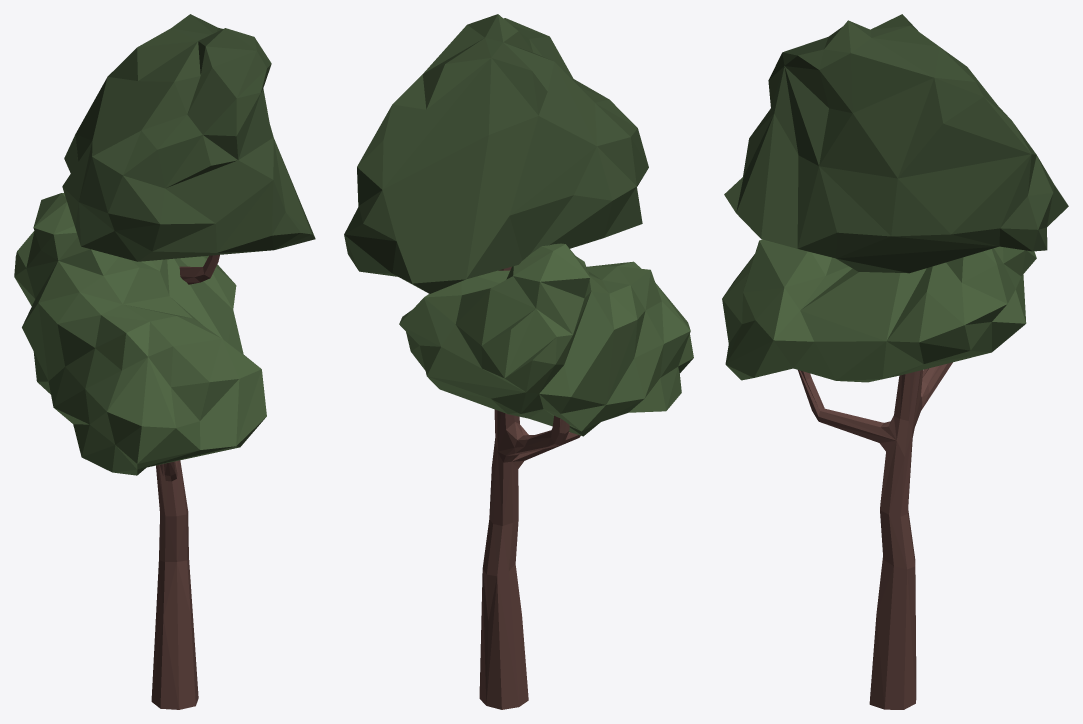
File: CommonTree_3.glb
3 views of the same model, side by side, from view 1: azimuth 30°, elevation 25°; view 2: azimuth 150°, elevation 25°; view 3: azimuth 270°, elevation 25° (orthographic). The views are drawn at different scales.
Visible parts, largest first — view 1: CommonTree_3; view 2: CommonTree_3; view 3: CommonTree_3.
Boxes of the visible parts, left/top/right/bottom form: CommonTree_3: left=14, top=14, right=315, bottom=709; CommonTree_3: left=344, top=14, right=693, bottom=709; CommonTree_3: left=722, top=14, right=1068, bottom=709.
Bounding box in the file's own units: 1.28 × 3.45 × 1.56.
